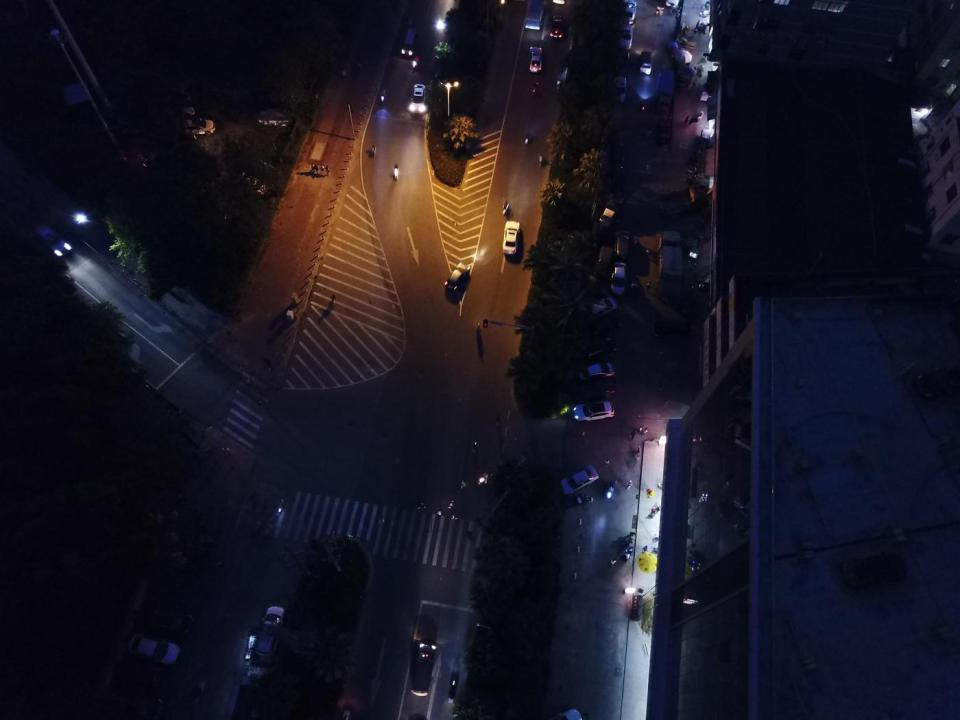car: (128, 633, 181, 665), (410, 638, 438, 697), (32, 223, 74, 260), (559, 464, 599, 496), (576, 379, 617, 401), (581, 338, 617, 363), (582, 296, 618, 321), (574, 400, 614, 422), (576, 361, 615, 383), (651, 320, 693, 340), (444, 262, 471, 293), (502, 220, 520, 255), (611, 260, 627, 296), (407, 84, 426, 114), (613, 229, 630, 261), (548, 14, 566, 40), (656, 116, 672, 144), (611, 76, 627, 103), (618, 24, 634, 50), (621, 0, 637, 25), (528, 46, 543, 72)
truck: (658, 187, 708, 219), (654, 68, 676, 114), (523, 0, 546, 29)
van: (251, 604, 287, 669), (594, 245, 613, 279), (182, 118, 216, 136), (400, 28, 420, 58), (639, 50, 652, 75)
